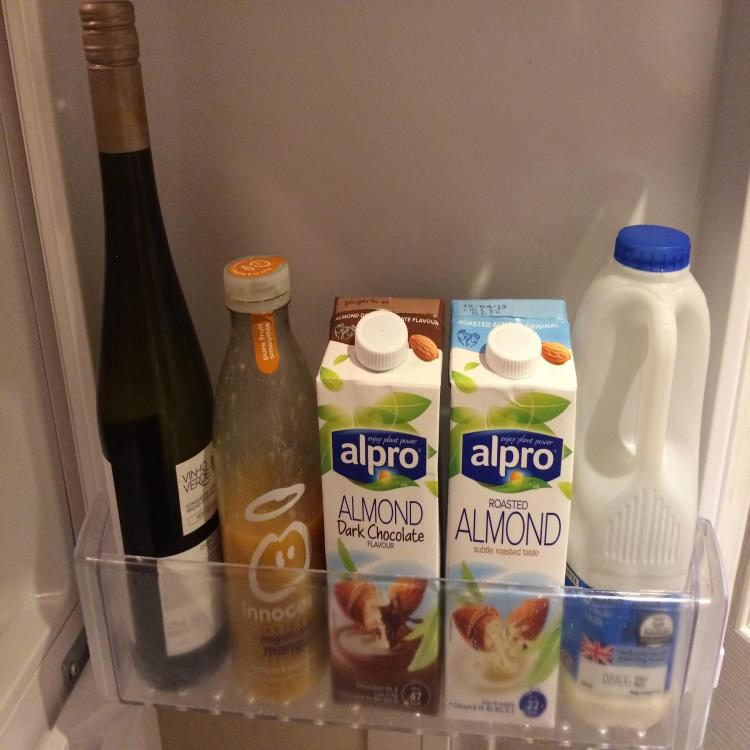Clear plastic bottle: (212, 254, 330, 704)
Glass bottle: (77, 0, 230, 692)
Metal bottle cap: (78, 0, 140, 51)
Plastic bottle cap: (614, 224, 691, 272), (223, 254, 291, 302), (355, 310, 408, 371), (485, 324, 542, 380)
